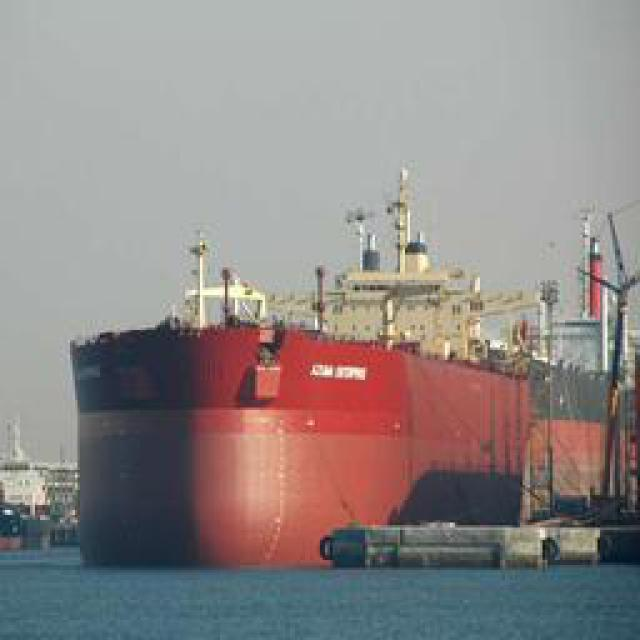Ship: (59, 179, 614, 562)
